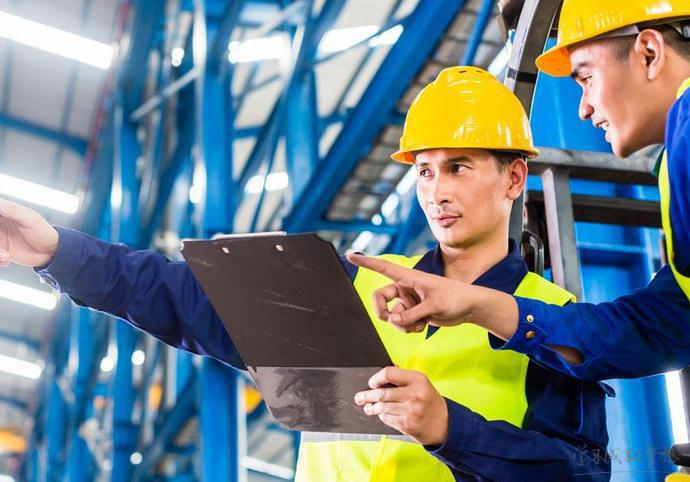helmet: (391, 59, 542, 254), (530, 0, 689, 151)
